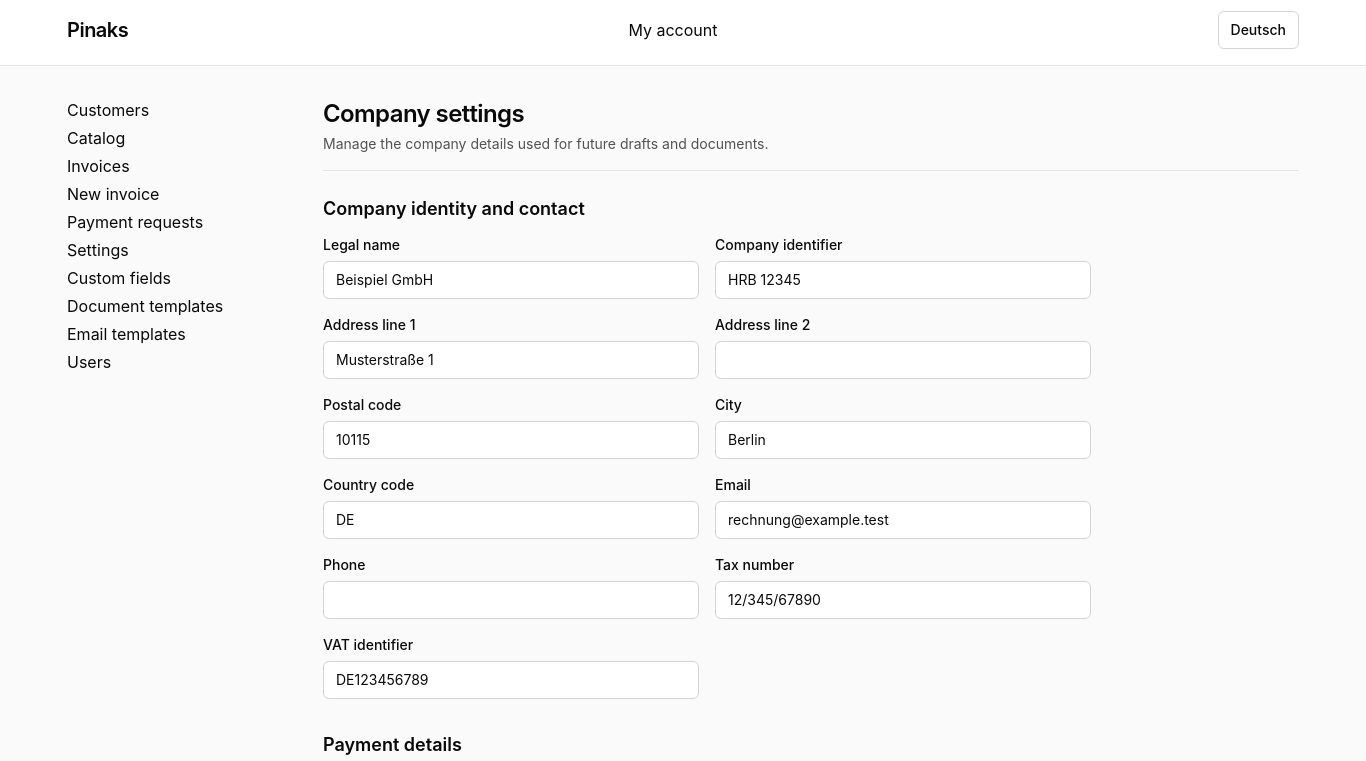
Test: application shell › loads and saves the bilingual company settings form for administrators
Check: the heading "Company settings" is shown, box [323,99,524,128]
Replace the text in the field labelled "Legal name" with "Neue GmbH": (511, 280) [323,261,699,299]
(page scrolled)
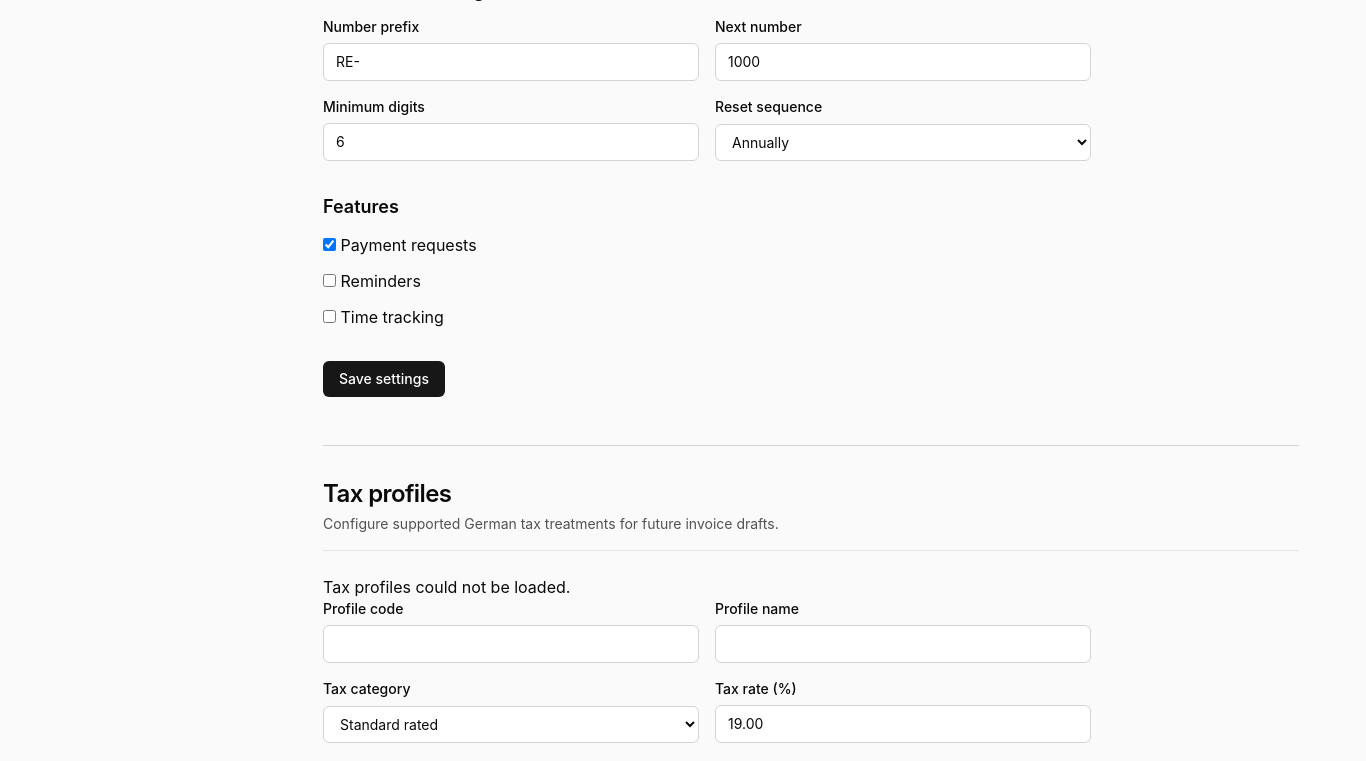
Click the button "Save settings": (384, 379) [323,361,445,397]
(page scrolled)
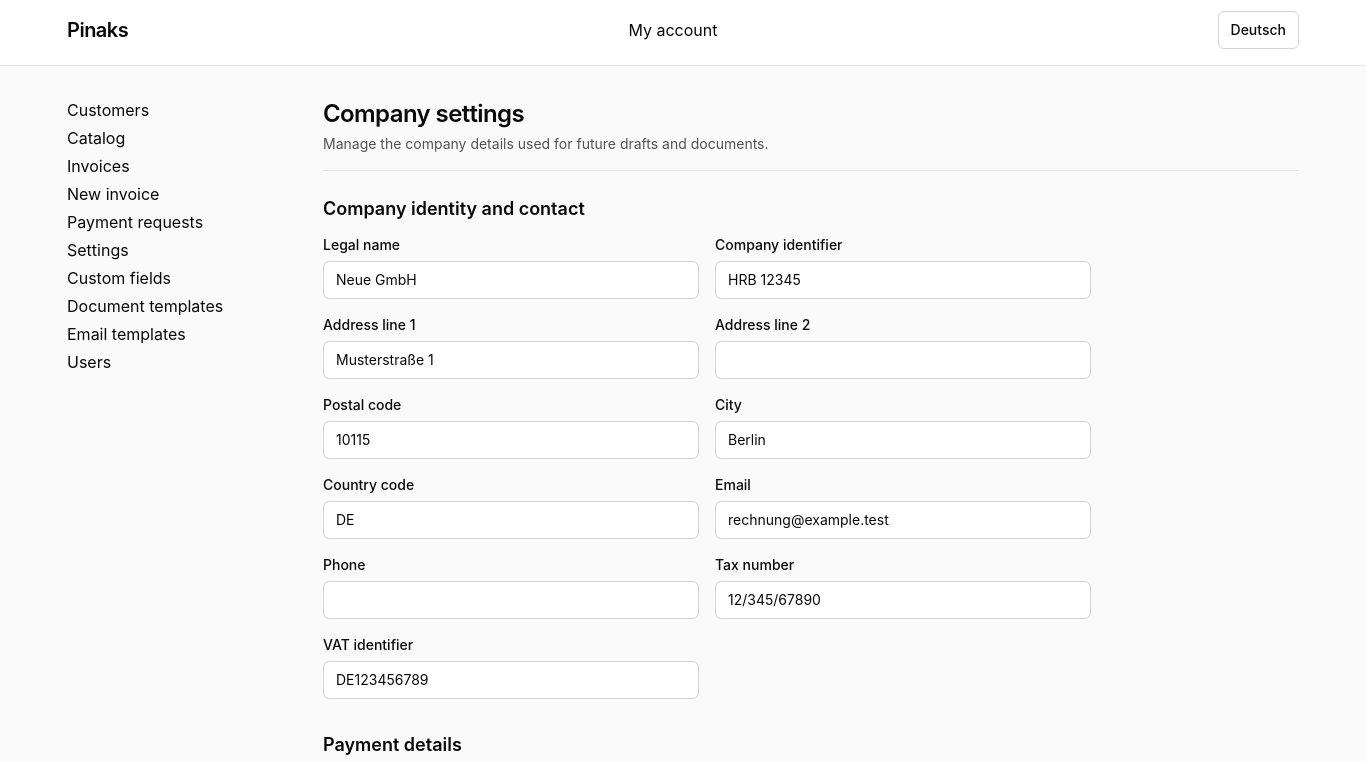
Click the button "Deutsch": (1258, 30) [1218,11,1299,49]
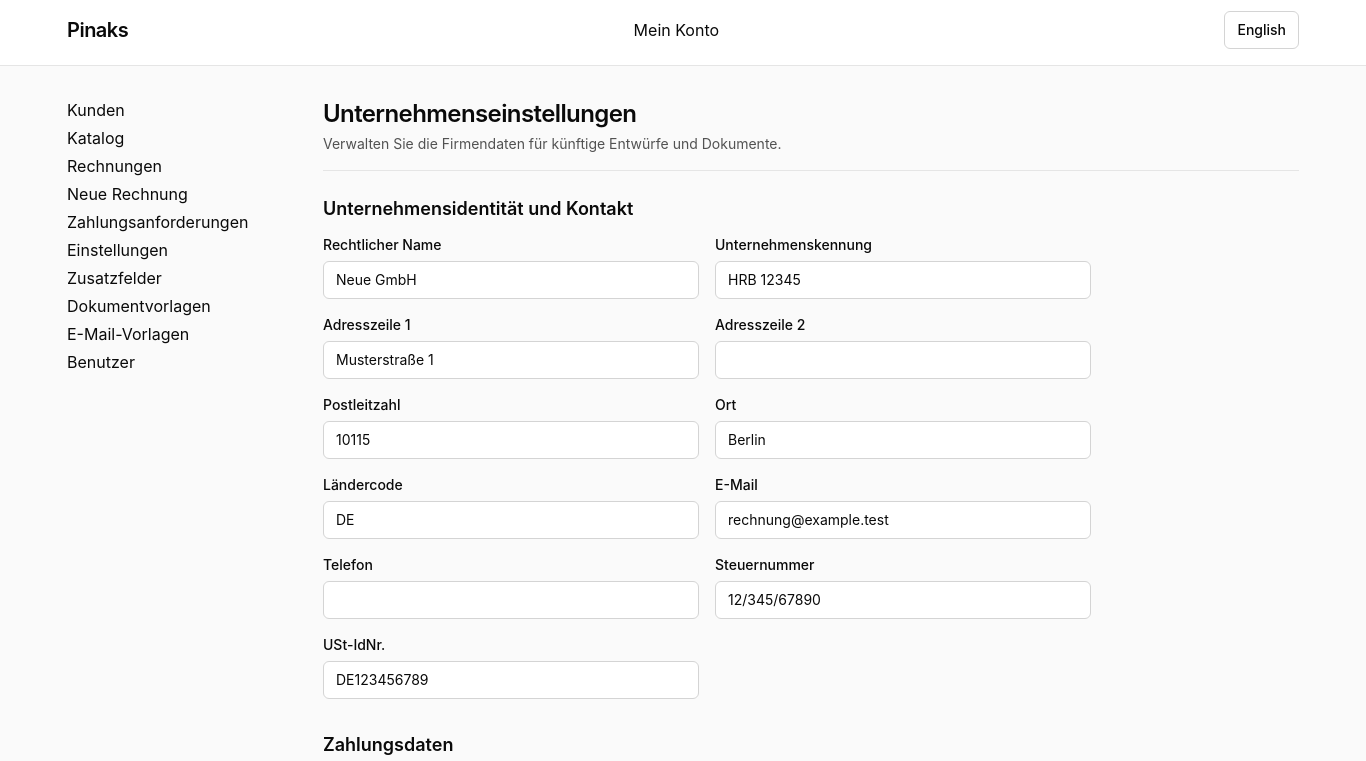
Check: the heading "Unternehmenseinstellungen" is shown, box [323,99,636,128]
